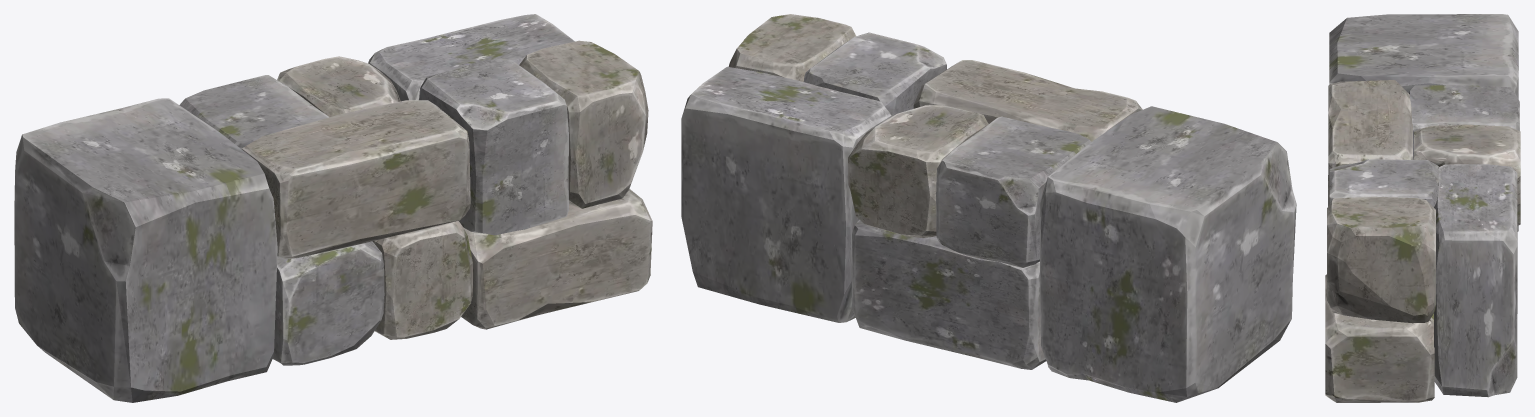
The picture shows the model from 3 angles, left to right: view 1: azimuth 30°, elevation 25°; view 2: azimuth 150°, elevation 25°; view 3: azimuth 270°, elevation 25°; orthographic projection. The views are drawn at different scales.
Visible parts, largest first — view 1: SM_BB_T3_Beam_Thick_Med_Horizontal_LOD0; view 2: SM_BB_T3_Beam_Thick_Med_Horizontal_LOD0; view 3: SM_BB_T3_Beam_Thick_Med_Horizontal_LOD0.
Part boxes in pixels (box(x1,y1,x2,y2)): SM_BB_T3_Beam_Thick_Med_Horizontal_LOD0: box(14, 14, 652, 402); SM_BB_T3_Beam_Thick_Med_Horizontal_LOD0: box(681, 14, 1296, 402); SM_BB_T3_Beam_Thick_Med_Horizontal_LOD0: box(1325, 14, 1520, 402).
Size of the model in its own units: 1.52 by 0.5687 by 0.5697.
Materials: 1 (1 with a texture image).
